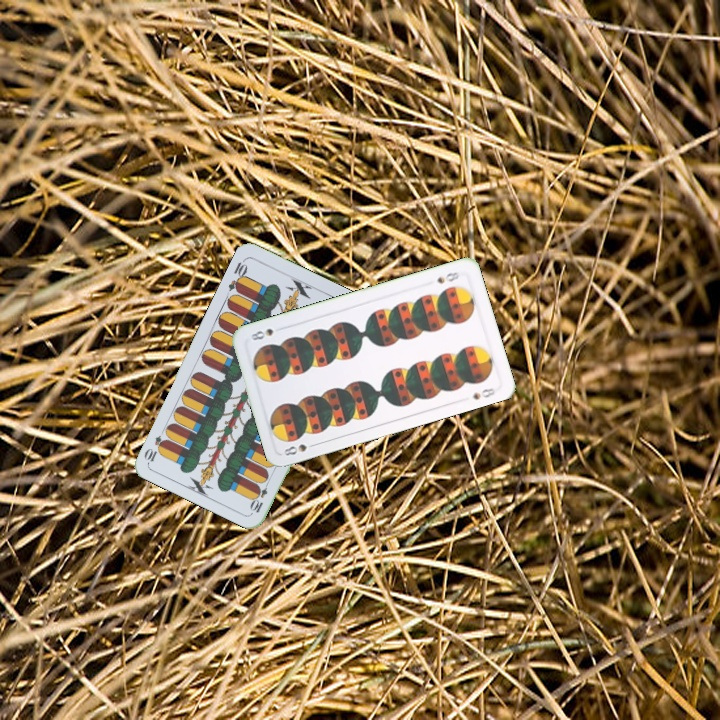E10: (224, 255, 250, 295), (247, 476, 272, 515)
S8: (280, 439, 320, 460), (432, 268, 461, 286)
